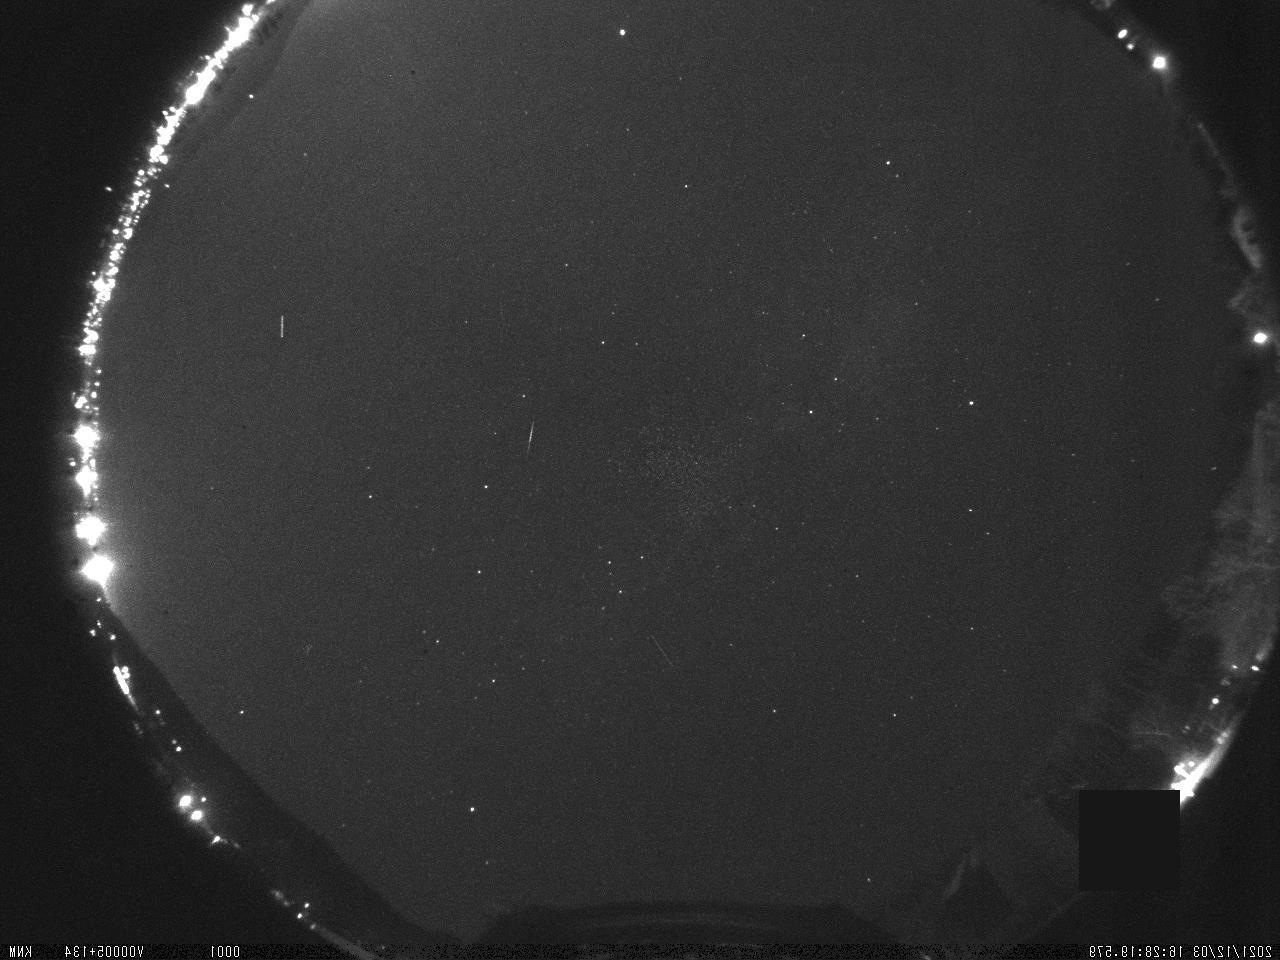meteor: (513, 415, 546, 460)
